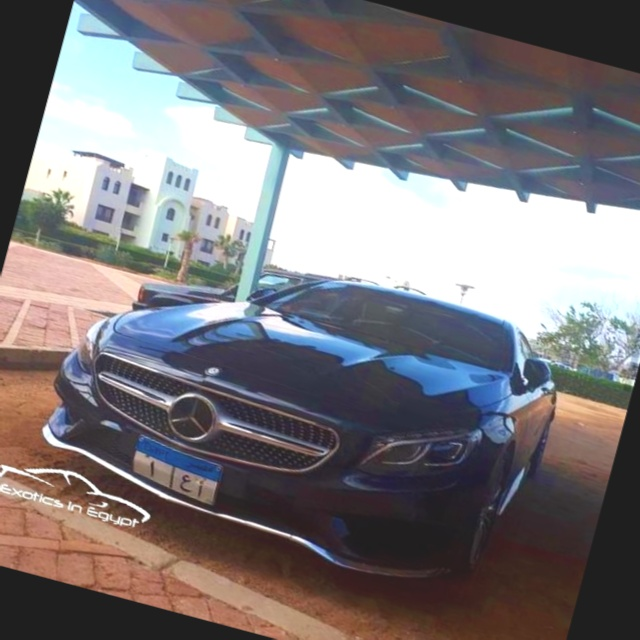License Plate: (121, 430, 230, 511)
